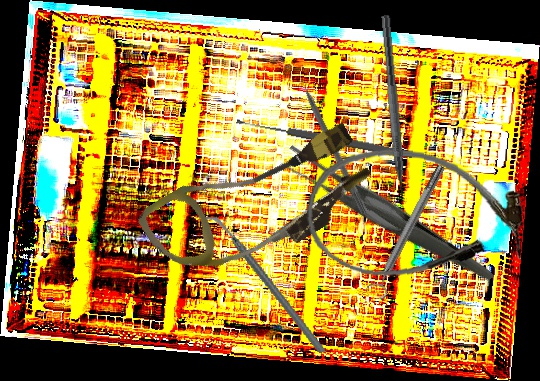Cannula: (134, 98, 384, 308), (300, 141, 531, 290)
Chopper: (203, 194, 327, 374), (367, 13, 411, 214)
Dressing Forceps: (276, 101, 495, 334)
Fixation Ring: (363, 160, 453, 302)
Pusher: (294, 68, 369, 215)
Surgical Spoon: (235, 116, 414, 160)
